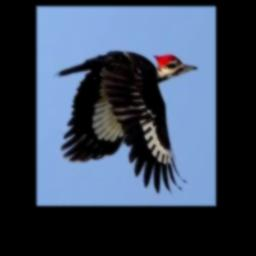Woodpecker: (53, 50, 197, 193)
